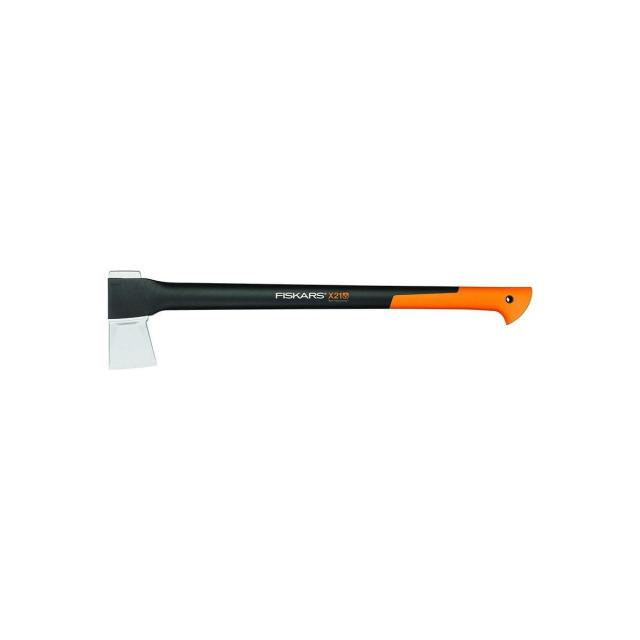Kapak: (105, 260, 547, 373)
